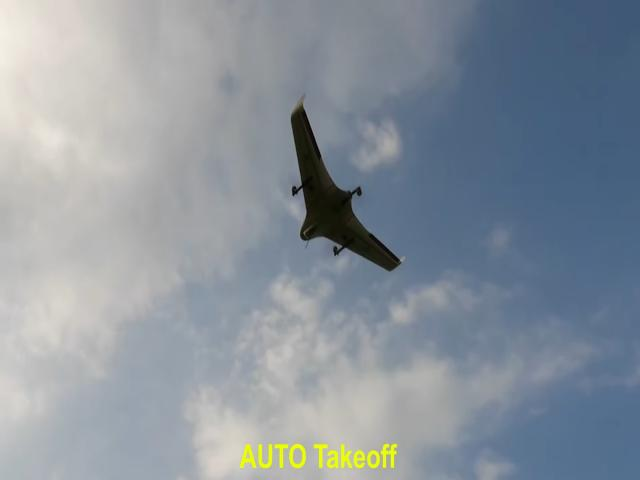plane: (290, 93, 402, 271)
